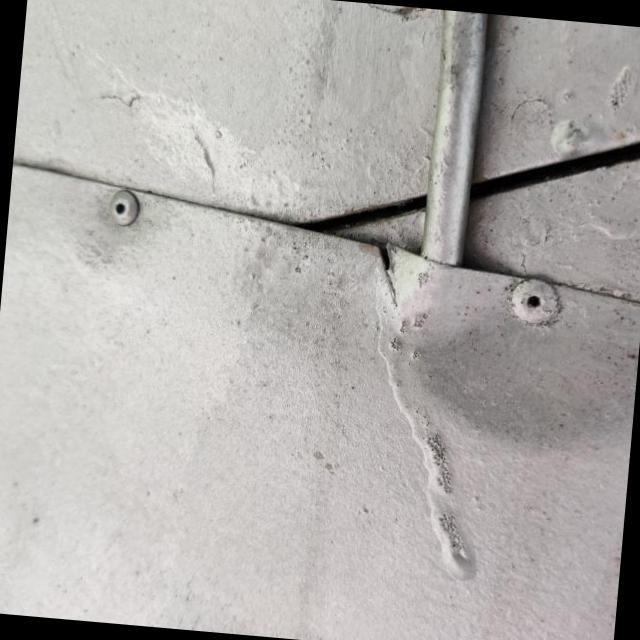Crack: (367, 242, 402, 319)
